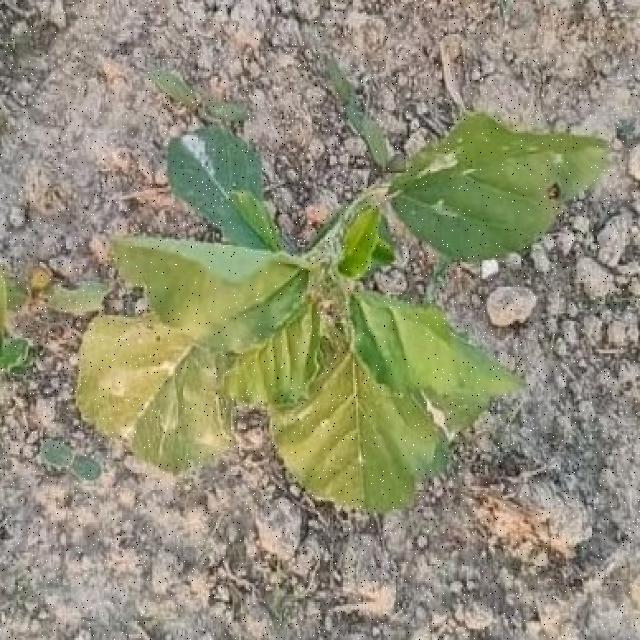weed: (76, 72, 607, 512), (322, 59, 393, 168)
